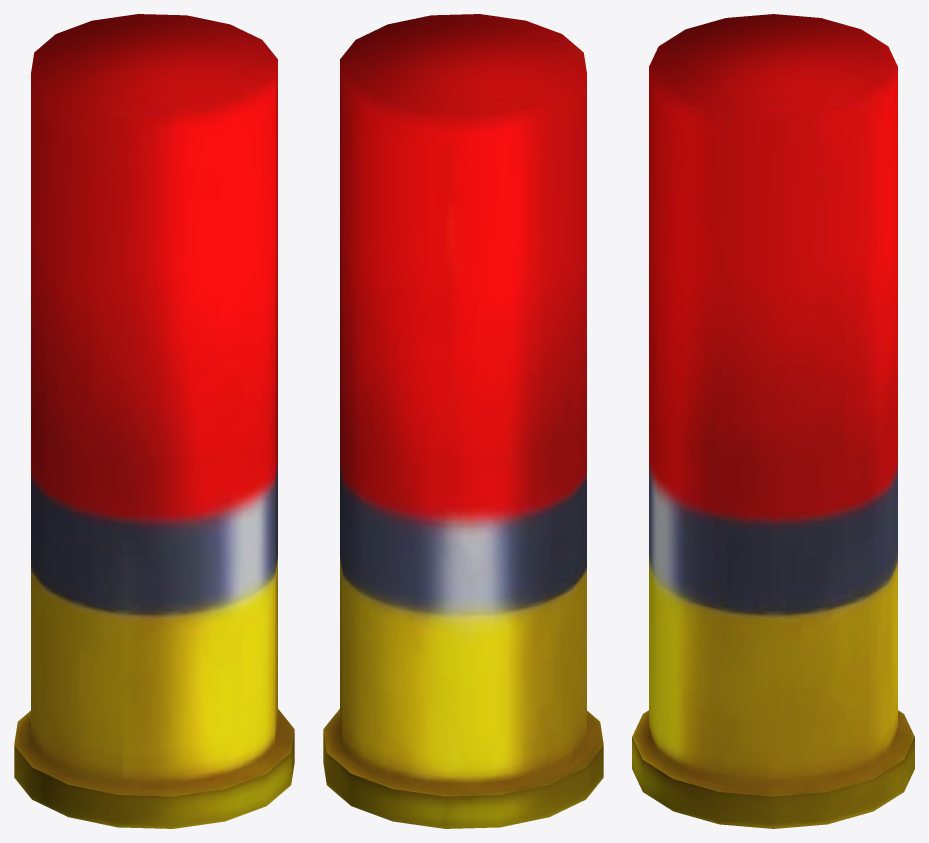
The model's file is bullet_shells.glb.
The picture shows the model from 3 angles, left to right: view 1: azimuth 30°, elevation 25°; view 2: azimuth 150°, elevation 25°; view 3: azimuth 270°, elevation 25°; orthographic projection.
Visible parts, largest first — view 1: bulletshotgun; view 2: bulletshotgun; view 3: bulletshotgun.
Part boxes in pixels (x1,y1,x2,y2): bulletshotgun: (14,14,294,828); bulletshotgun: (323,14,603,828); bulletshotgun: (632,14,914,828).
Size of the model in its own units: 0.0127 by 0.0348 by 0.0127.
1 material, 1 textured.
